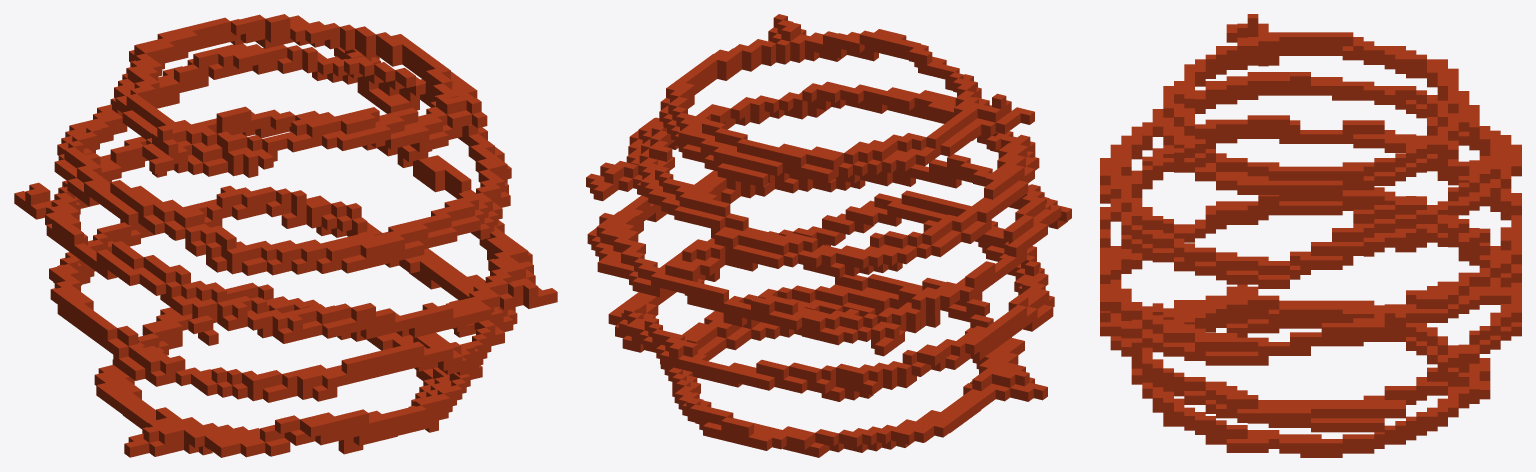
The model's file is Anas_Marrons#b73713.dae.
3 renders of one model, left to right at view 1: azimuth 30°, elevation 25°; view 2: azimuth 150°, elevation 25°; view 3: azimuth 270°, elevation 25°, orthographic. The views are drawn at different scales.
Visible parts, largest first — view 1: Anas_Marrons#b73713-obj.vox; view 2: Anas_Marrons#b73713-obj.vox; view 3: Anas_Marrons#b73713-obj.vox.
Boxes of the visible parts, <box> form: Anas_Marrons#b73713-obj.vox: <box>14,14,557,457</box>; Anas_Marrons#b73713-obj.vox: <box>586,14,1071,457</box>; Anas_Marrons#b73713-obj.vox: <box>1100,14,1521,457</box>.
Bounding box in the file's own units: 4 × 4 × 3.2.
